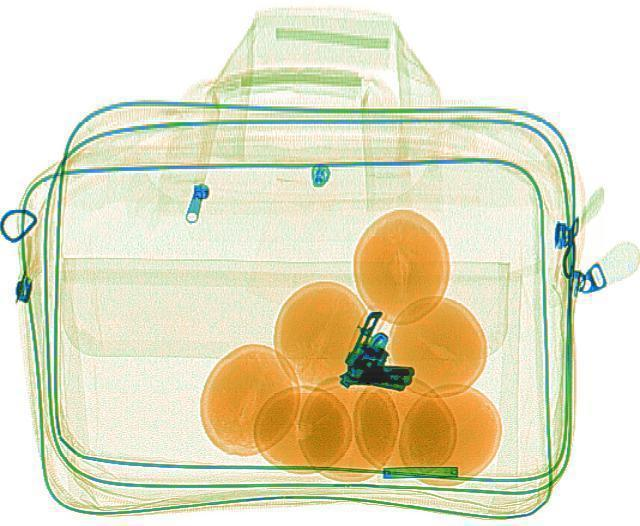Gun: (332, 308, 432, 400), (344, 326, 432, 390)
